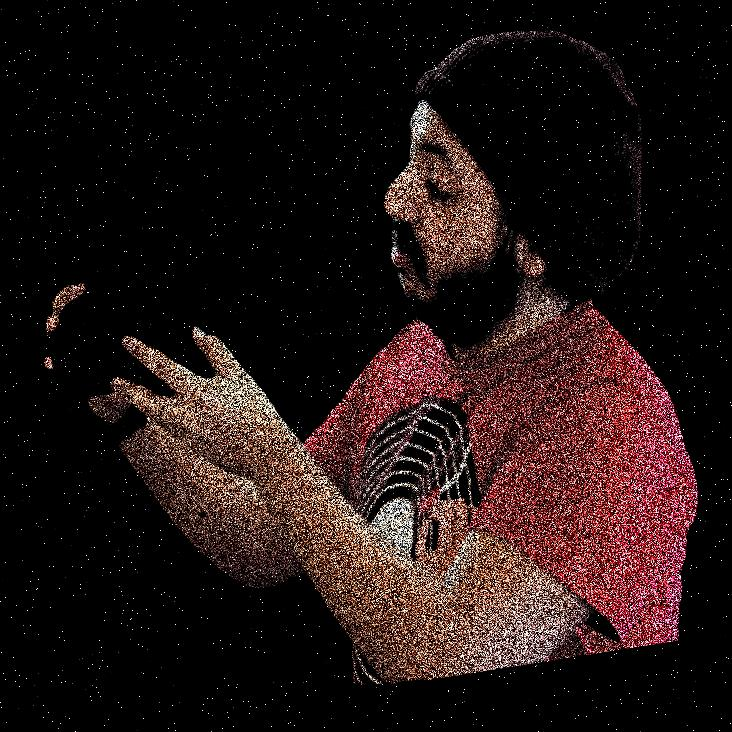Pessoa: (377, 0, 627, 731)
